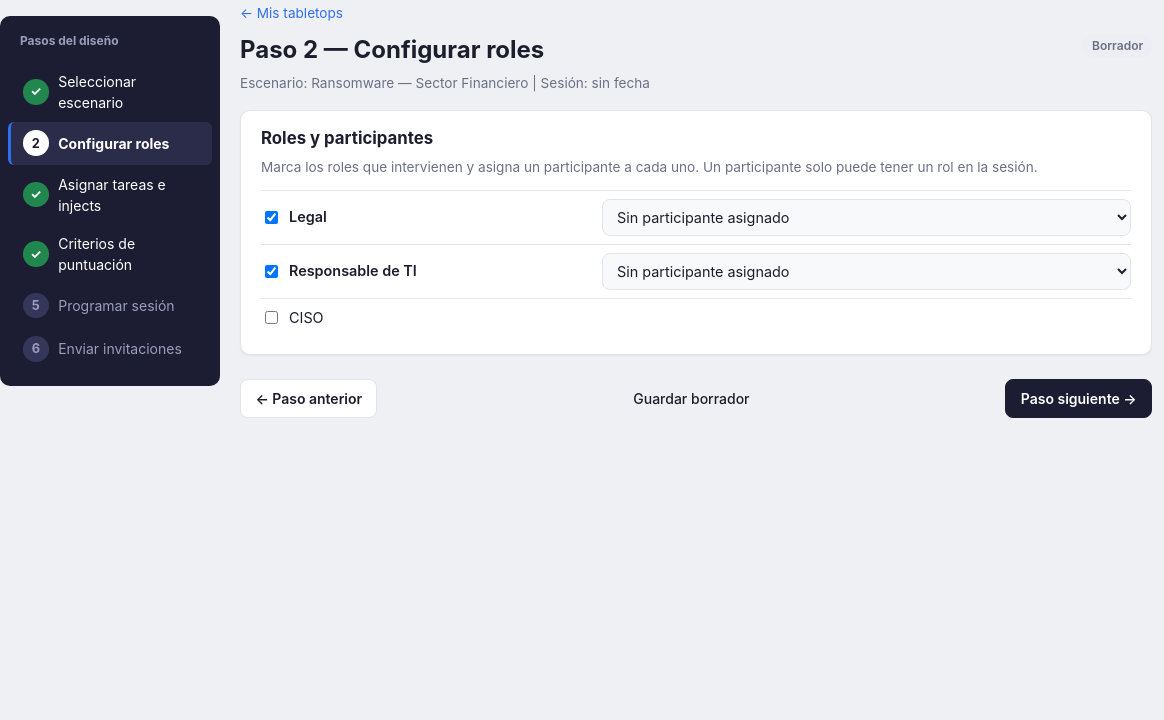
it: DisenadorPage › paso 2: asigna participantes y al avanzar guarda el borrador
Expected: the heading "Paso 2 — Configurar roles" is shown, [240, 35, 544, 64]
Expected: the text "Escenario: Ransomware — Sector Financiero" is shown, [240, 75, 650, 91]
Select "Ana López — ana@example.com" in the dropdown named "Participante para Responsable de TI" in the row of "Responsable de TI" at [866, 271], box [602, 253, 1131, 290]
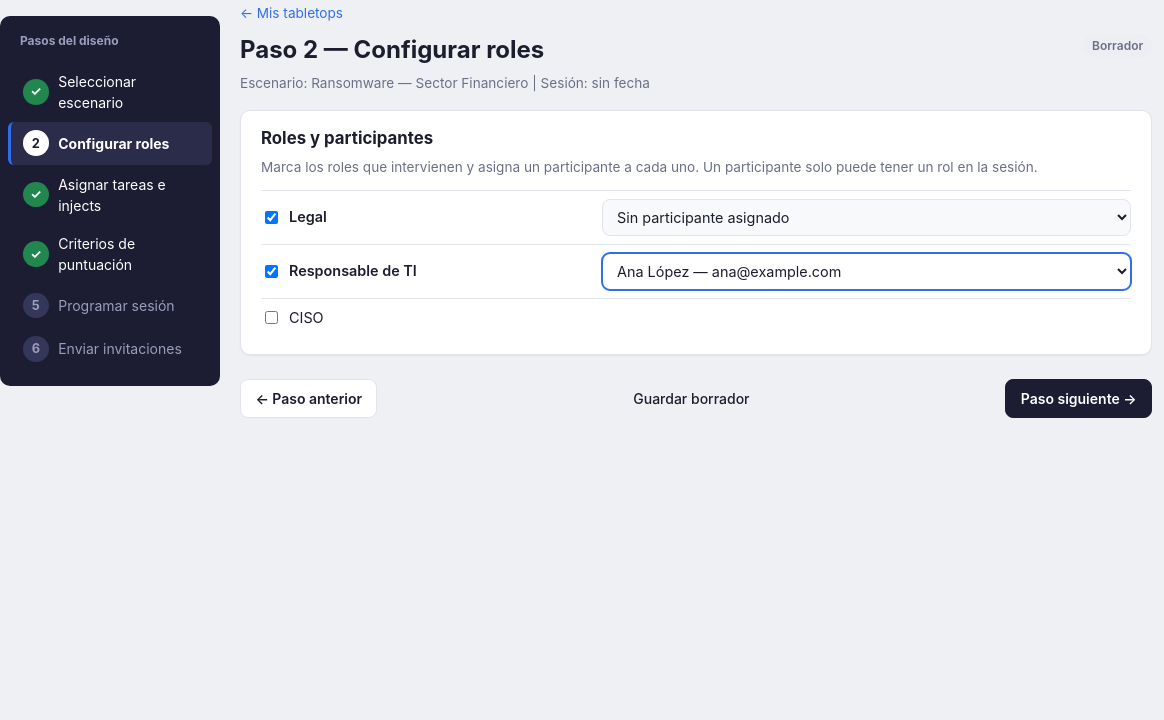
Select "Luis Suárez — luis@example.com" in the dropdown named "Participante para Legal" in the row of "Legal" at [866, 217], box [602, 199, 1131, 236]
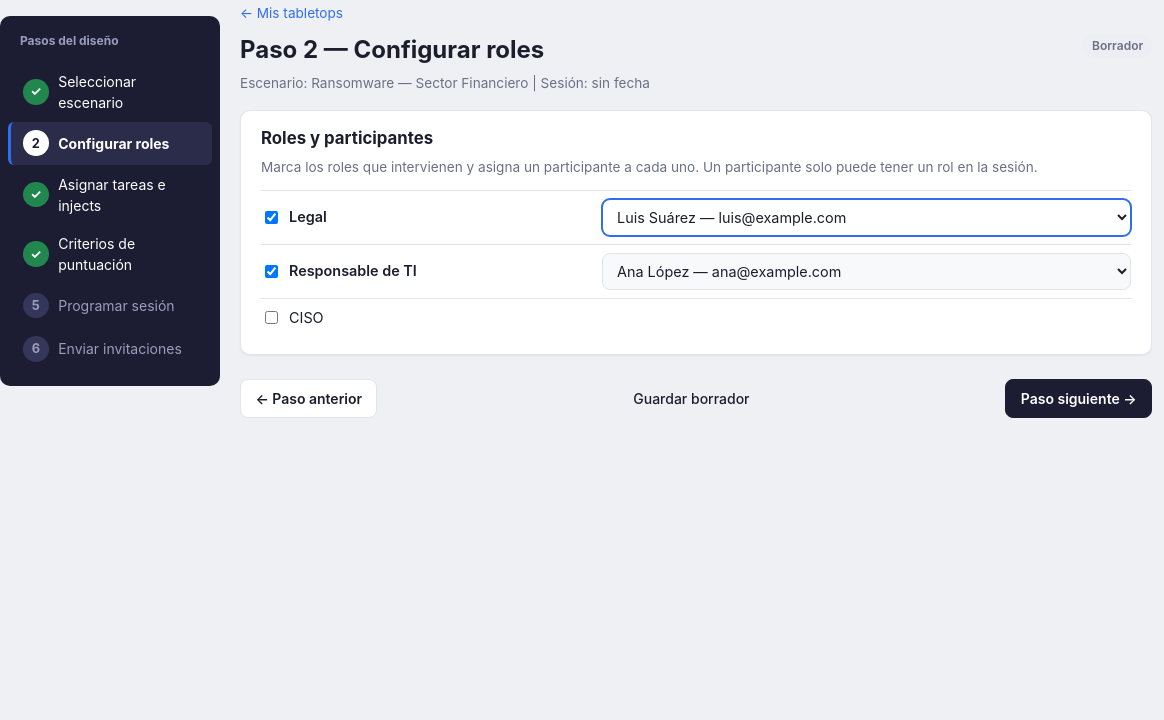
Click the button "Paso siguiente →" at [1079, 398], box [1005, 379, 1152, 418]
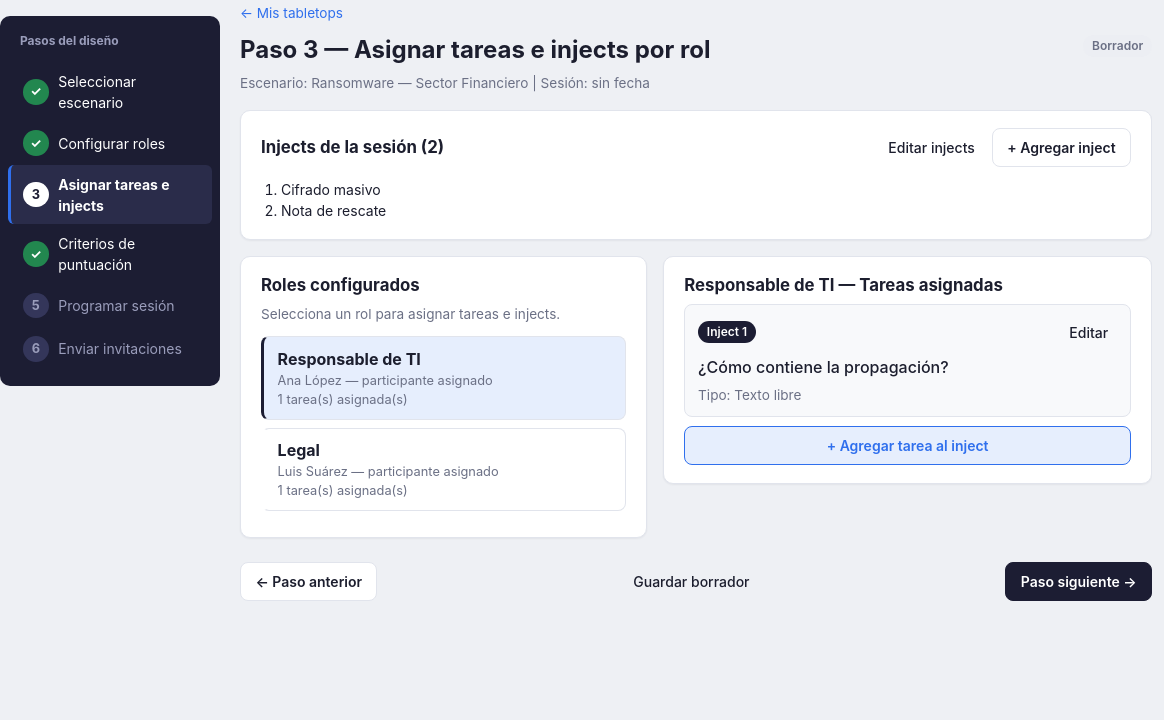
Expected: the heading "Paso 3 — Asignar tareas e injects por rol" is shown, [240, 35, 710, 65]
